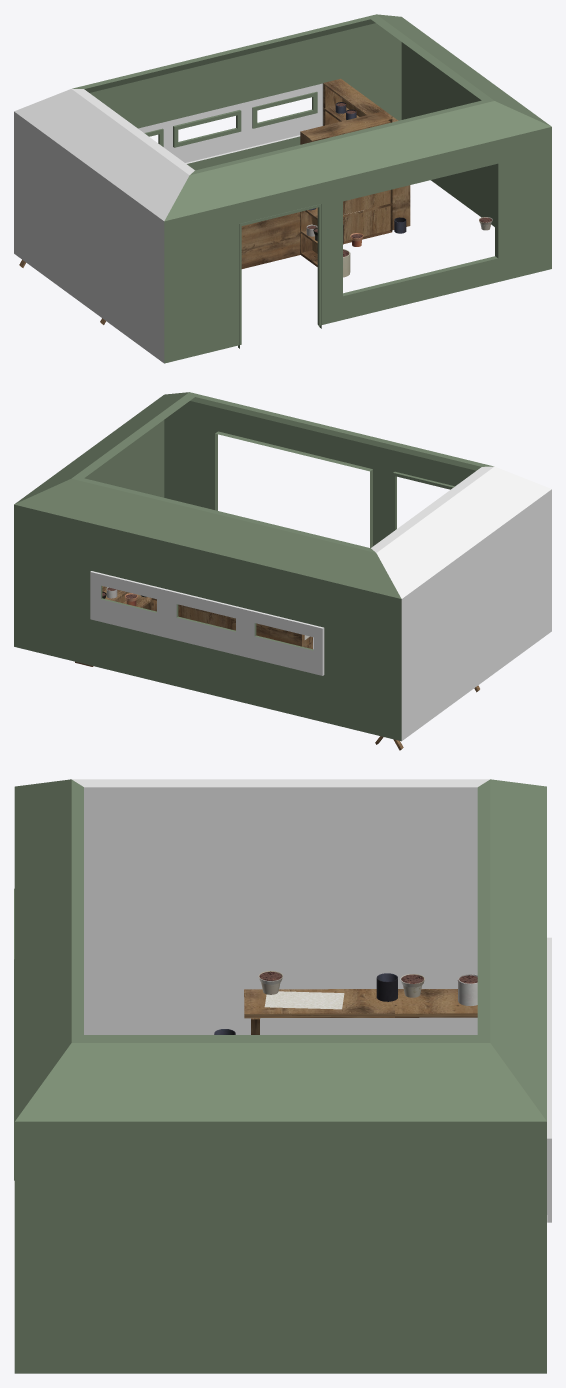
File: PlantShop.fbx
The picture shows the model from 3 angles, top to bottom: view 1: azimuth 30°, elevation 25°; view 2: azimuth 150°, elevation 25°; view 3: azimuth 270°, elevation 25°; orthographic projection. The views are drawn at different scales.
Visible parts, largest first — view 1: PlantShop; view 2: PlantShop; view 3: PlantShop.
Boxes of the visible parts, bbox=[...] form: PlantShop: bbox=[14, 14, 551, 363]; PlantShop: bbox=[14, 392, 551, 750]; PlantShop: bbox=[14, 779, 551, 1373].
Bounding box in the file's own units: 8679 × 3823 × 5887.
